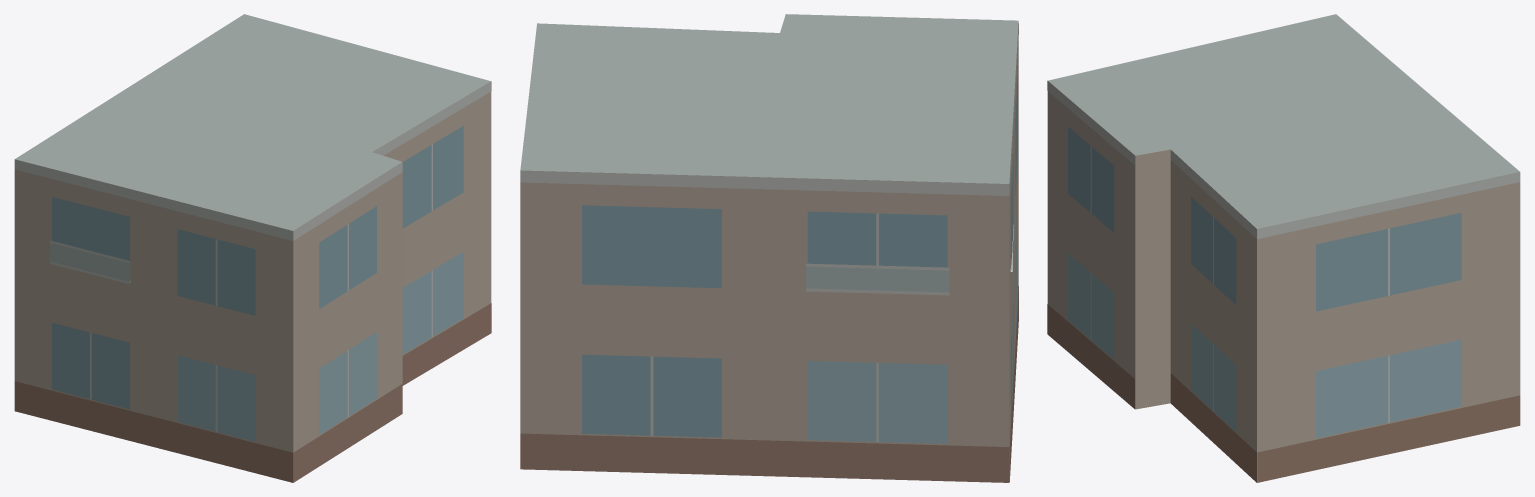
Rendered from survey-upis-32786652.glb.
The picture shows the model from 3 angles, left to right: view 1: azimuth 30°, elevation 25°; view 2: azimuth 150°, elevation 25°; view 3: azimuth 270°, elevation 25°; orthographic projection. The views are drawn at different scales.
Parts seen in each view (by area): view 1: survey-upis-32786652.tmp; view 2: survey-upis-32786652.tmp; view 3: survey-upis-32786652.tmp.
Boxes of the visible parts, x1=… form: survey-upis-32786652.tmp: x1=14, y1=14, x2=491, y2=482; survey-upis-32786652.tmp: x1=520, y1=14, x2=1018, y2=482; survey-upis-32786652.tmp: x1=1047, y1=14, x2=1520, y2=482.
Size of the model in its own units: 11.1 by 6.1 by 10.31.
